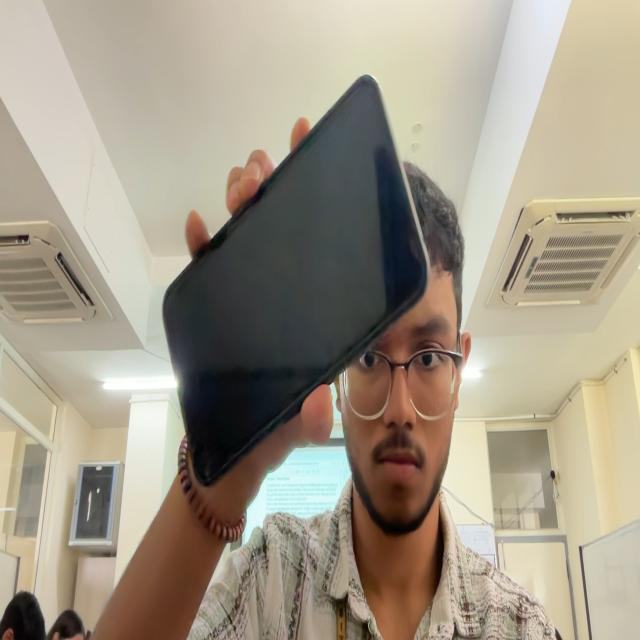Useful: (163, 76, 429, 485)
